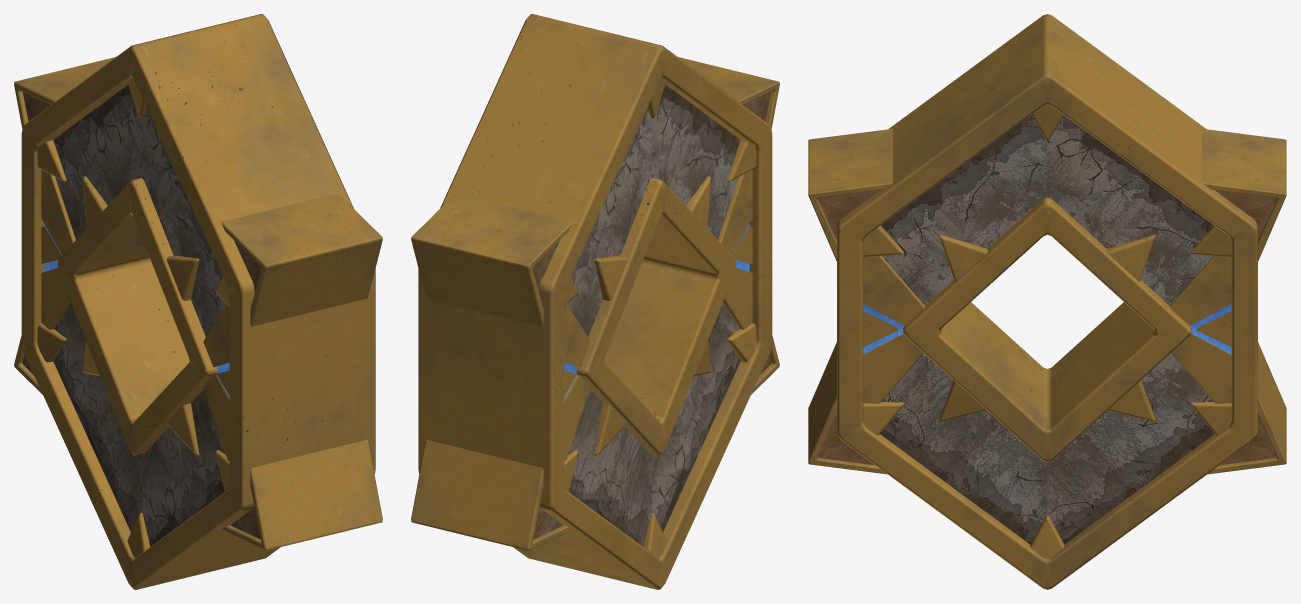
3 views of the same model, side by side, from view 1: azimuth 30°, elevation 25°; view 2: azimuth 150°, elevation 25°; view 3: azimuth 270°, elevation 25° (orthographic). The views are drawn at different scales.
Visible parts, largest first — view 1: SM_Beam_Frame_Hole_01_LOD0; view 2: SM_Beam_Frame_Hole_01_LOD0; view 3: SM_Beam_Frame_Hole_01_LOD0.
Part boxes in pixels (bbox=[...]): SM_Beam_Frame_Hole_01_LOD0: bbox=[14, 14, 382, 589]; SM_Beam_Frame_Hole_01_LOD0: bbox=[411, 14, 779, 589]; SM_Beam_Frame_Hole_01_LOD0: bbox=[808, 14, 1286, 589].
Size of the model in its own units: 0.9614 by 3.68 by 3.1.
3 materials, 3 textured.
